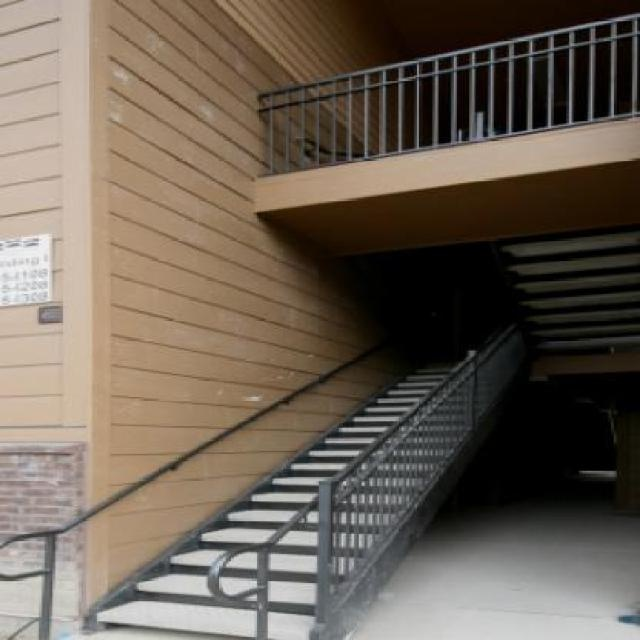stair: (37, 217, 585, 638)
